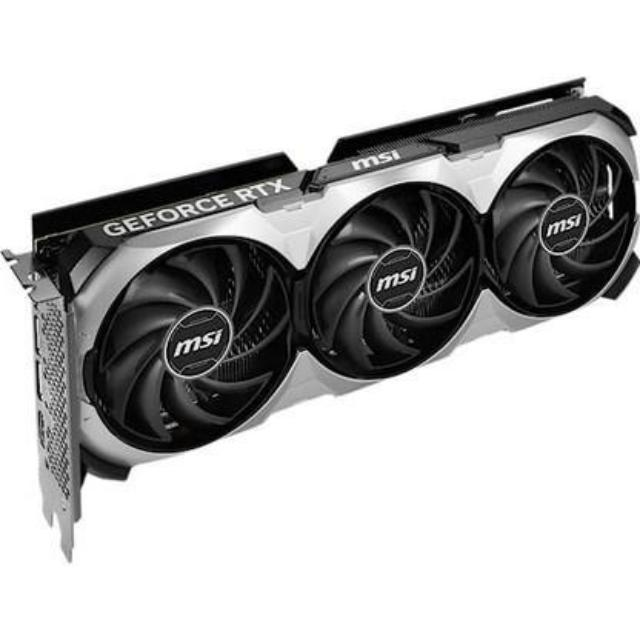GPU: (27, 63, 636, 477)
